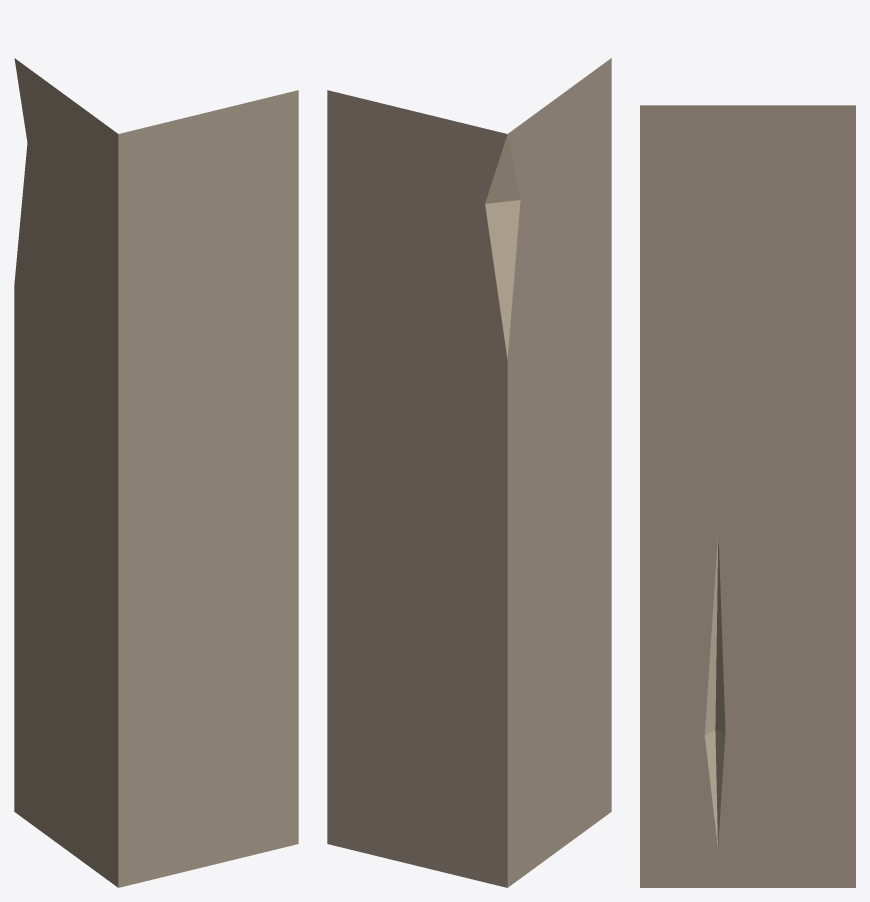
Rendered from Cave_Prop_Support_Wall_Pillar_4.glb.
3 renders of one model, left to right at view 1: azimuth 30°, elevation 25°; view 2: azimuth 150°, elevation 25°; view 3: azimuth 270°, elevation 25°, orthographic. The views are drawn at different scales.
Visible parts, largest first — view 1: Cave_Prop_Support_Wall_Pillar_4; view 2: Cave_Prop_Support_Wall_Pillar_4; view 3: Cave_Prop_Support_Wall_Pillar_4.
Boxes of the visible parts, <box> form: Cave_Prop_Support_Wall_Pillar_4: <box>14,58,298,887</box>; Cave_Prop_Support_Wall_Pillar_4: <box>327,58,611,887</box>; Cave_Prop_Support_Wall_Pillar_4: <box>640,105,855,887</box>.
Size of the model in its own units: 0.25 by 1 by 0.25.
